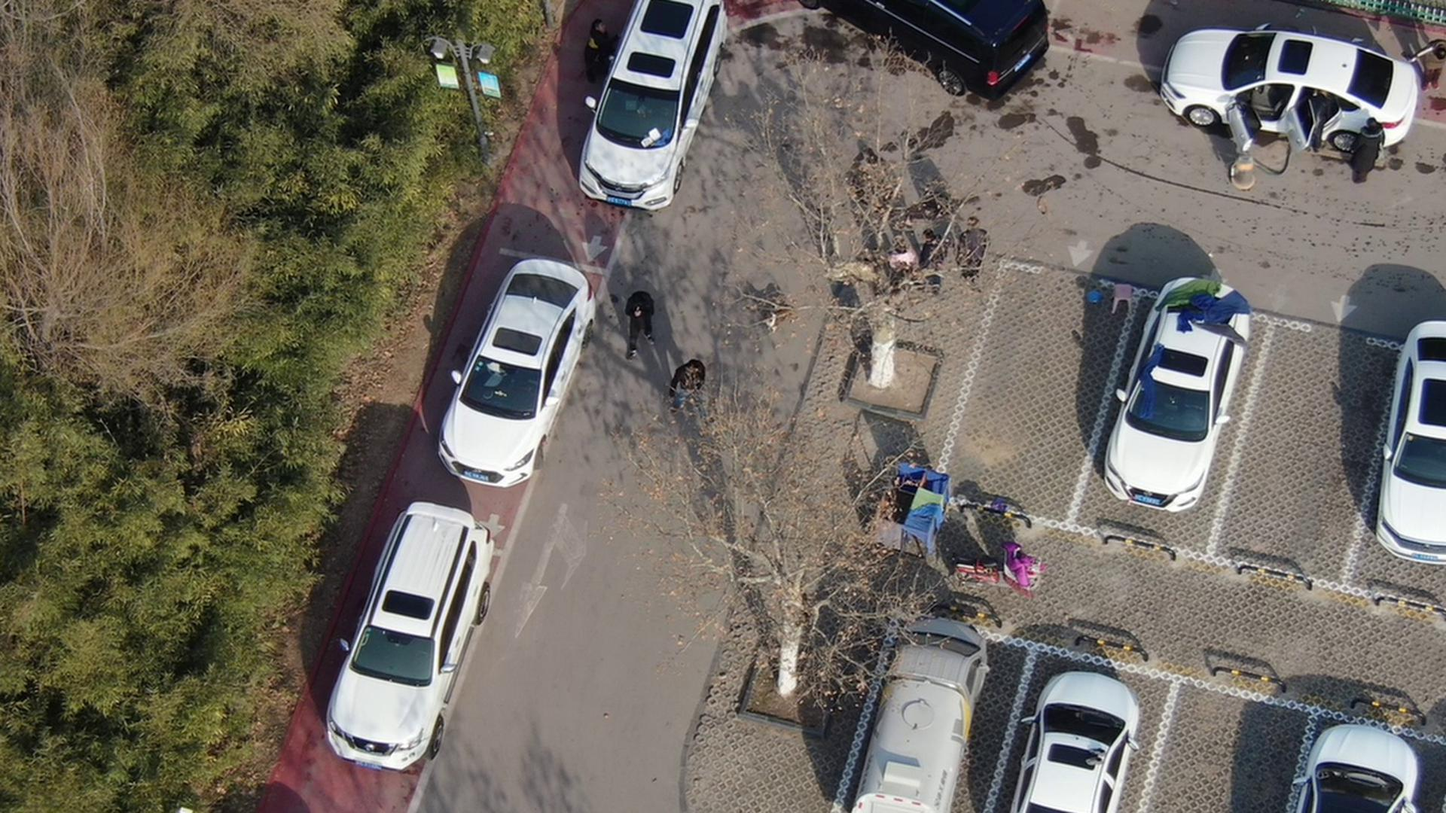human: (586, 8, 635, 87), (956, 212, 1001, 290), (1295, 85, 1339, 163), (669, 349, 718, 419), (911, 219, 952, 299), (1345, 104, 1385, 185), (626, 282, 664, 362), (1417, 41, 1446, 91)
